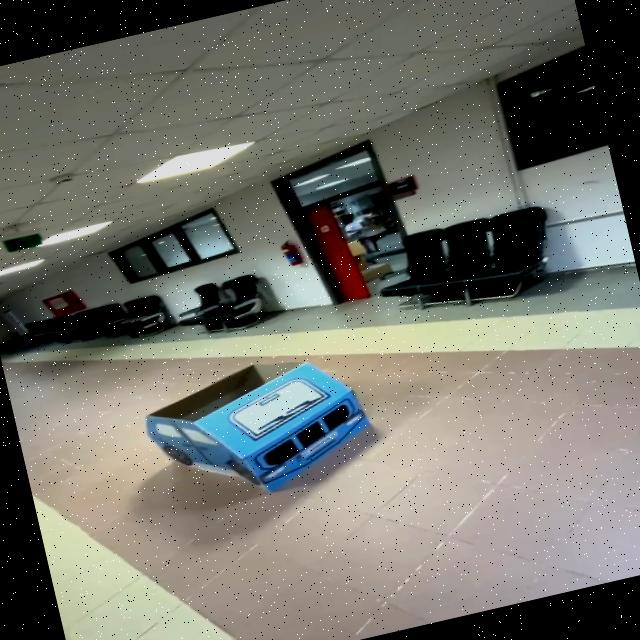blue_car: (120, 318, 420, 529)
